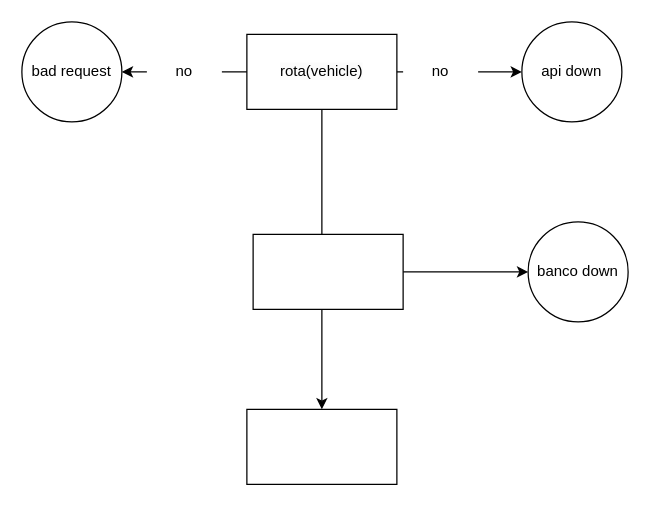
Some shapes in this 650 by 506 pixel diagram are drawn without their labels. Each missing label, with the centre of its shape:
"busca geral de ativos" belongs at (x=327, y=271).
"Retorno todos registros" belongs at (x=321, y=446).
